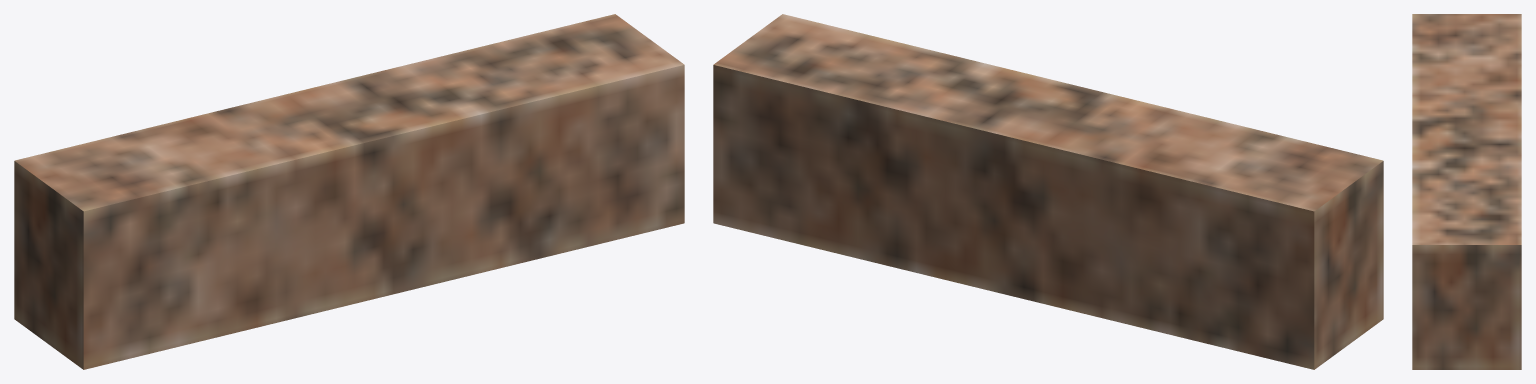
Rendered from set_partition_stone_b03.fbx.
The picture shows the model from 3 angles, left to right: view 1: azimuth 30°, elevation 25°; view 2: azimuth 150°, elevation 25°; view 3: azimuth 270°, elevation 25°; orthographic projection. The views are drawn at different scales.
Visible parts, largest first — view 1: set_partition_stone_b03; view 2: set_partition_stone_b03; view 3: set_partition_stone_b03.
Part boxes in pixels (x1,y1,x2,y2): set_partition_stone_b03: [14, 14, 684, 369]; set_partition_stone_b03: [713, 14, 1383, 369]; set_partition_stone_b03: [1412, 14, 1521, 369].
Bounding box in the file's own units: 50 × 12.6 × 10.
